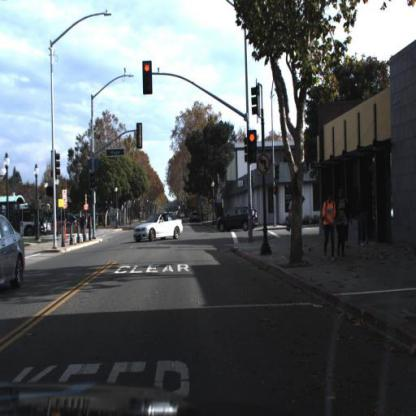car: (2, 213, 27, 293), (132, 210, 185, 244), (215, 203, 260, 235), (214, 205, 261, 234)
pedestrian: (356, 184, 376, 252), (322, 192, 336, 262), (286, 188, 308, 232), (337, 189, 349, 260), (79, 210, 88, 237)
trafficLight-Red: (141, 60, 155, 96), (245, 129, 257, 166), (249, 131, 257, 162)
truck: (1, 203, 52, 238)
